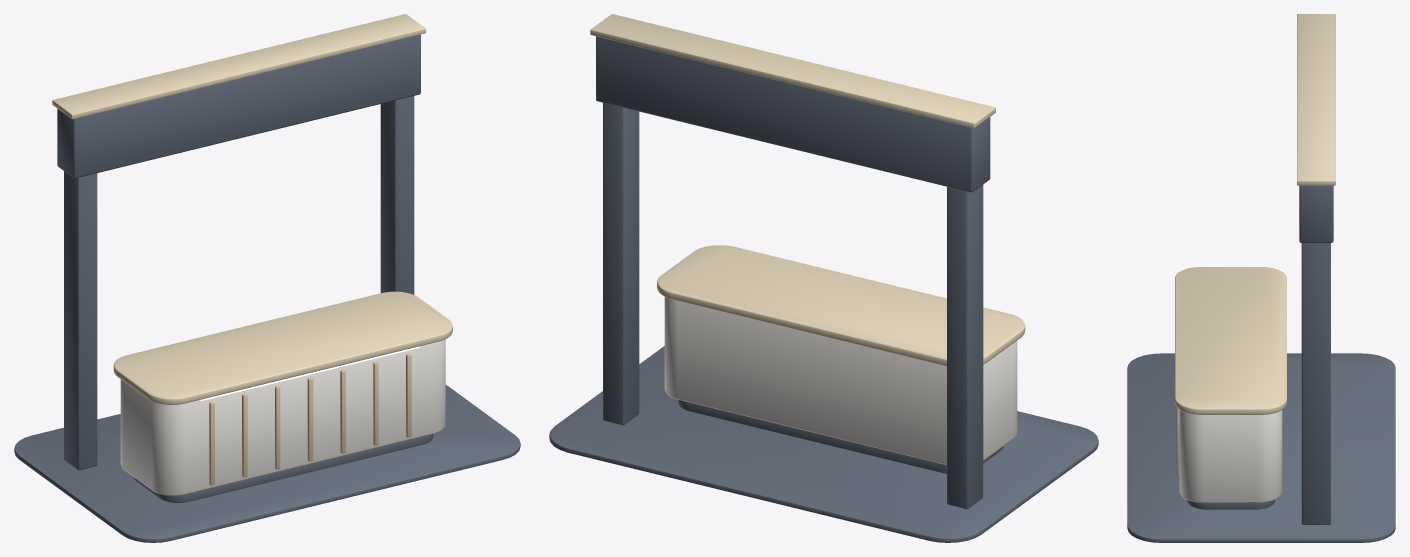
Rendered from welcome_desk_v27_3.glb.
3 renders of one model, left to right at view 1: azimuth 30°, elevation 25°; view 2: azimuth 150°, elevation 25°; view 3: azimuth 270°, elevation 25°, orthographic. The views are drawn at different scales.
Visible parts, largest first — view 1: V273_WelcomeDesk_Plaza_Graphite, V273_WelcomeDesk_Plaza_Champagne, V273_WelcomeDesk_Plaza_Marble_Cream, V273_WelcomeDesk_Plaza_Warm_Oak; view 2: V273_WelcomeDesk_Plaza_Graphite, V273_WelcomeDesk_Plaza_Marble_Cream, V273_WelcomeDesk_Plaza_Champagne; view 3: V273_WelcomeDesk_Plaza_Graphite, V273_WelcomeDesk_Plaza_Champagne, V273_WelcomeDesk_Plaza_Marble_Cream.
Boxes of the visible parts, bbox=[...] form: V273_WelcomeDesk_Plaza_Graphite: bbox=[14, 34, 520, 542]; V273_WelcomeDesk_Plaza_Champagne: bbox=[52, 14, 452, 404]; V273_WelcomeDesk_Plaza_Marble_Cream: bbox=[120, 339, 445, 495]; V273_WelcomeDesk_Plaza_Warm_Oak: bbox=[209, 353, 411, 485]; V273_WelcomeDesk_Plaza_Graphite: bbox=[549, 36, 1098, 542]; V273_WelcomeDesk_Plaza_Marble_Cream: bbox=[664, 297, 1017, 464]; V273_WelcomeDesk_Plaza_Champagne: bbox=[590, 14, 1025, 366]; V273_WelcomeDesk_Plaza_Graphite: bbox=[1127, 185, 1395, 542]; V273_WelcomeDesk_Plaza_Champagne: bbox=[1175, 14, 1335, 414]; V273_WelcomeDesk_Plaza_Marble_Cream: bbox=[1179, 410, 1282, 502].
Size of the model in its own units: 3.6 by 3.19 by 2.2.
